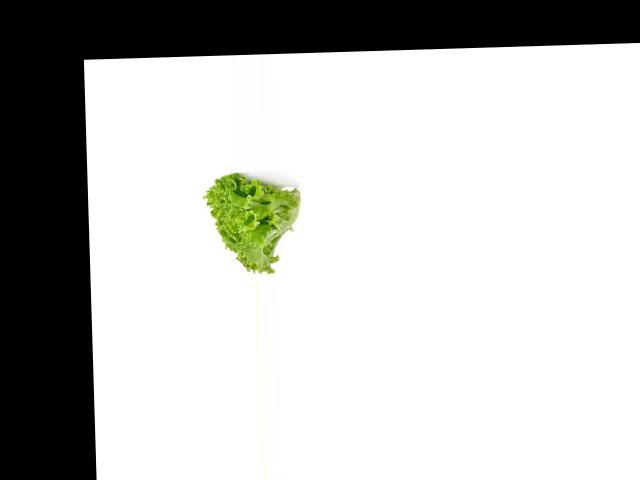lettuce: (197, 170, 309, 279)
